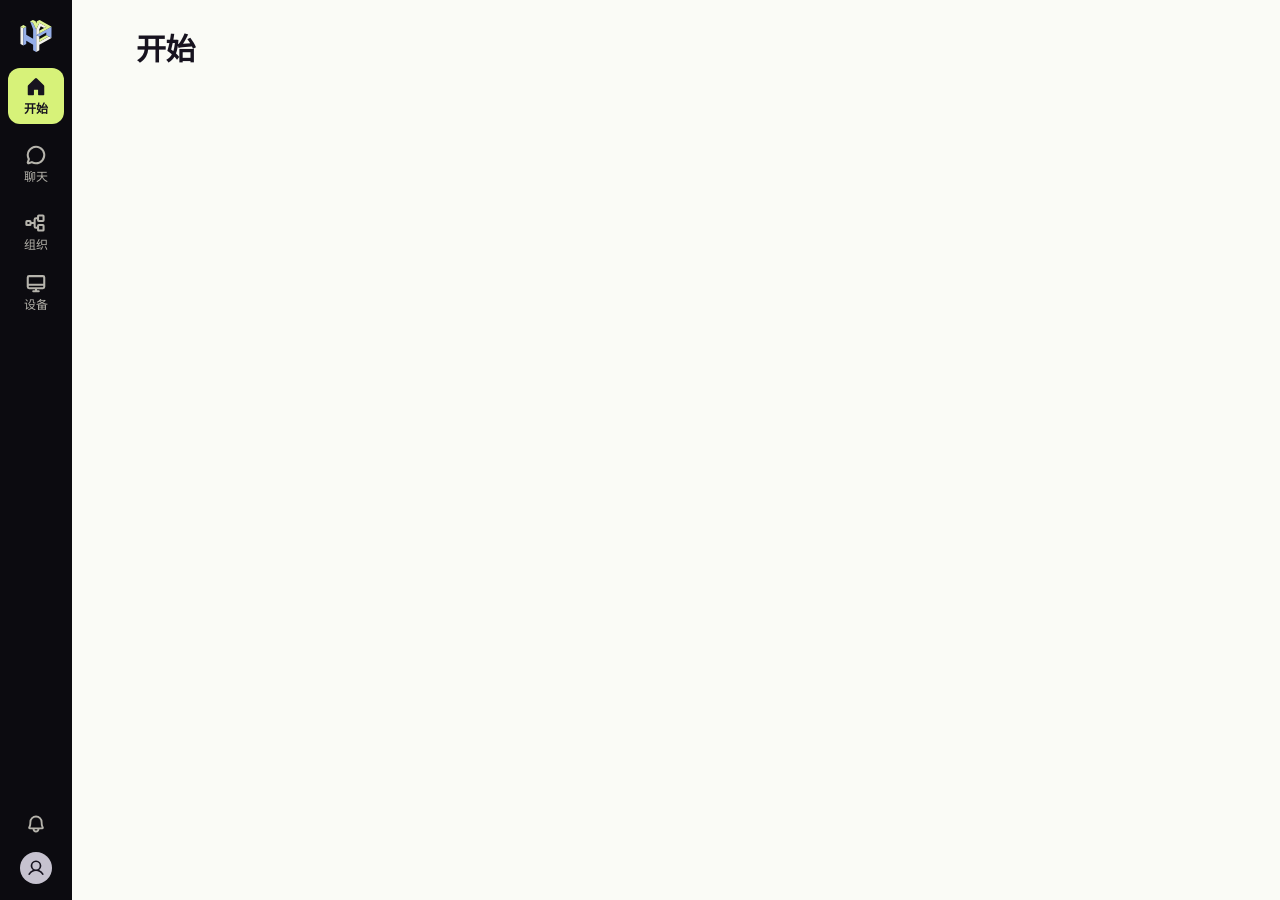
it: org.list authorityDevice 映射 › offers organization deletion when the owner has permission
What coordinates should you click on to do the following:
click the button "组织"
I would click on:
 (36, 232)
Its box is x1=8 y1=204 x2=64 y2=260.
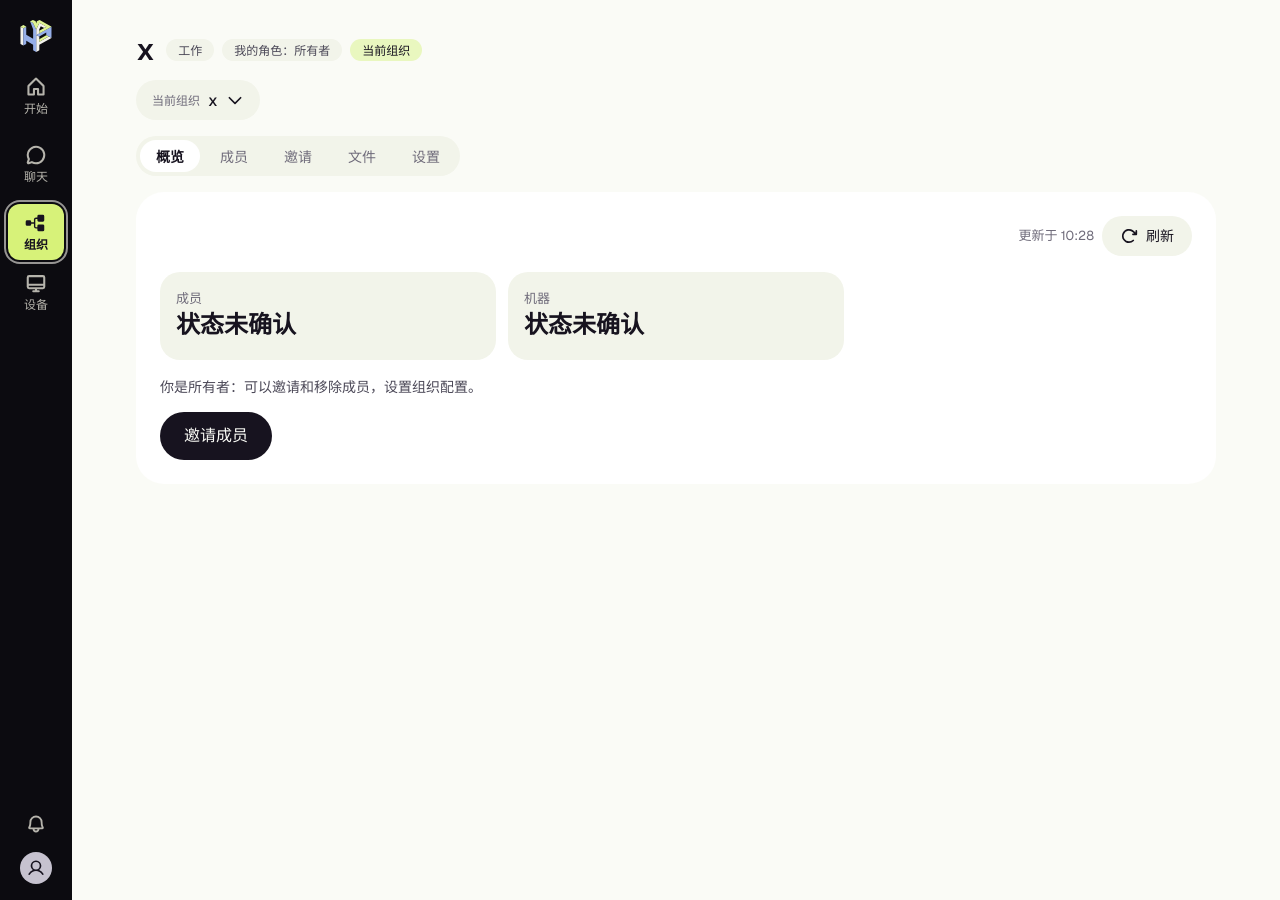
What coordinates should you click on to do the following:
click the tab "设置"
I would click on:
 (426, 156)
Its box is x1=396 y1=140 x2=456 y2=172.
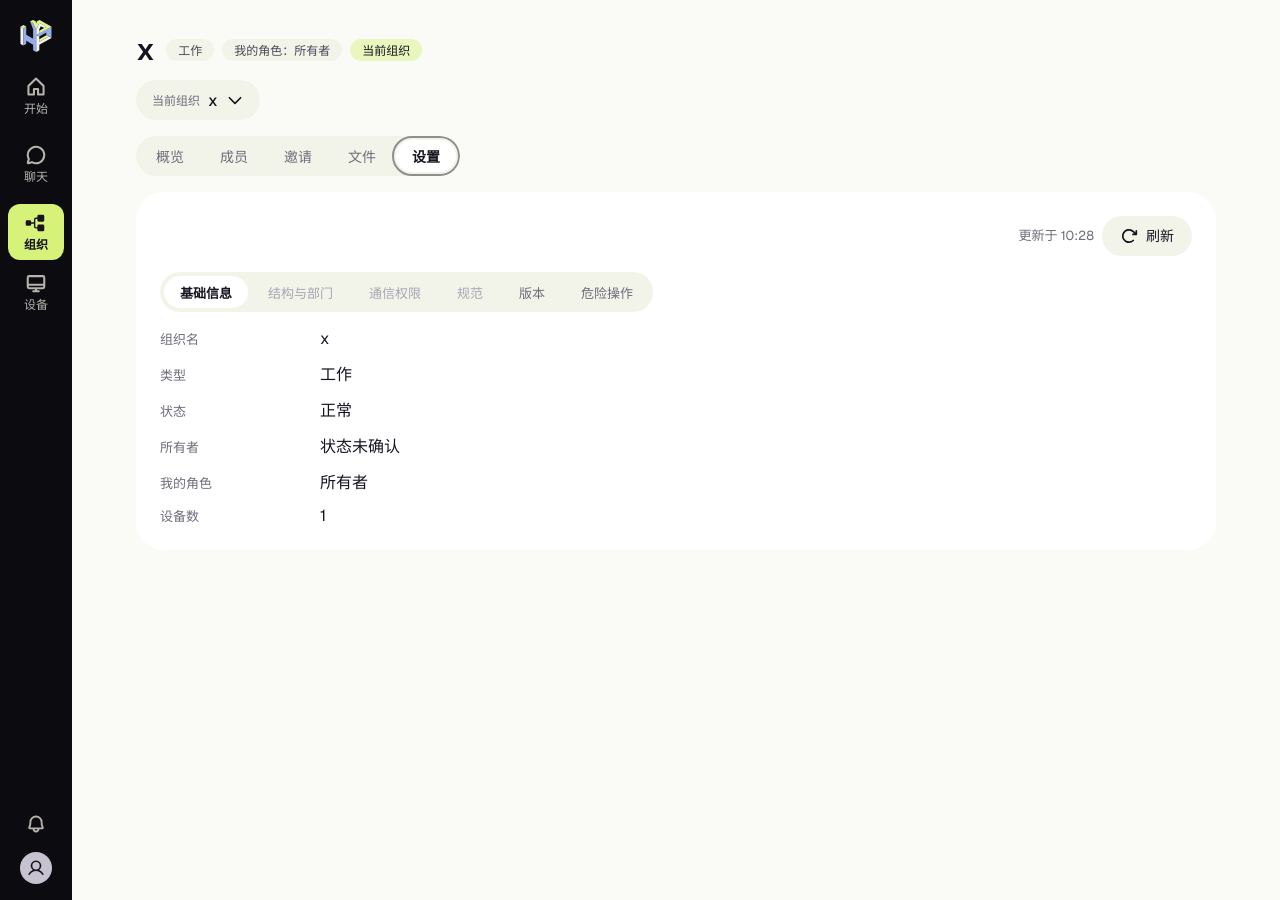
What coordinates should you click on to do the following:
click the tab "危险操作"
I would click on:
 (607, 292)
Its box is x1=565 y1=276 x2=649 y2=308.
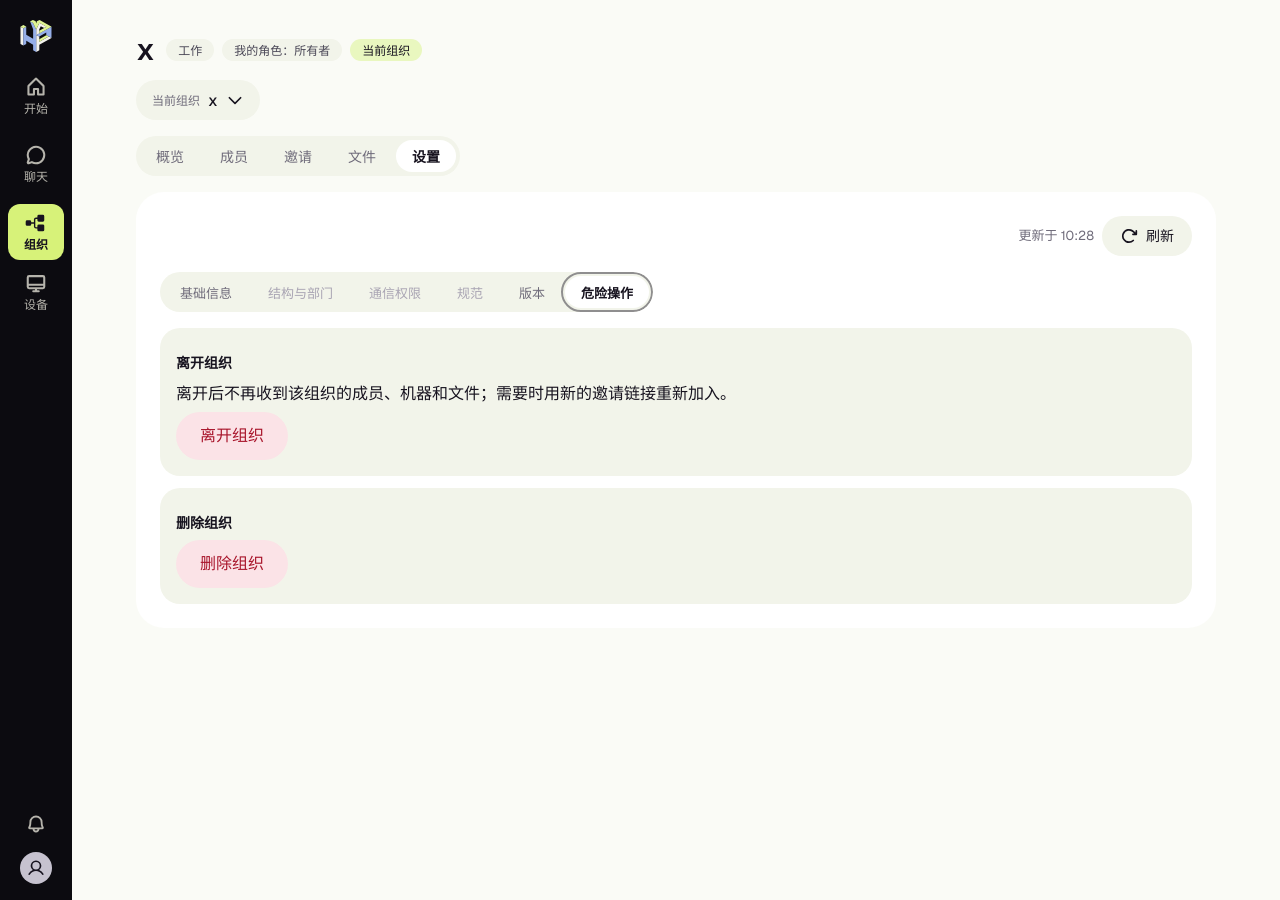
Check: the button "删除组织" is enabled, box x1=176 y1=540 x2=288 y2=588
